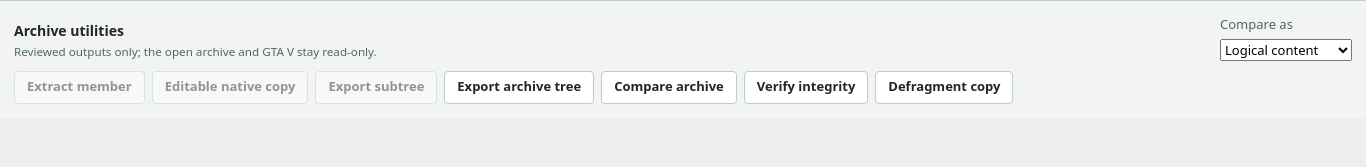
Scenario: guards the destination picker and ignores its result after cancellation
Click the button "Verify integrity". click: point(806, 87)
box: [744,70,868,104]
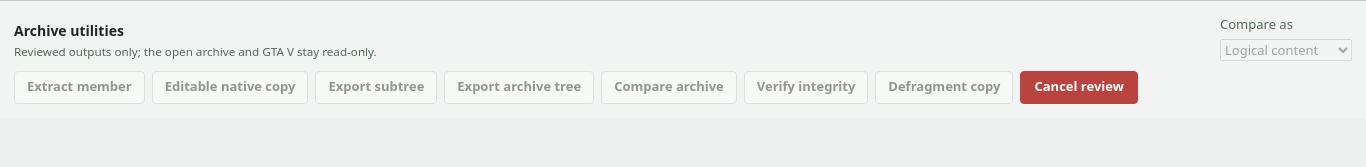
expect the button "Compare archive" is disabled: met, box [601,70,737,104]
Click the button "Cancel review". click: point(1079, 87)
box: [1020,70,1138,104]
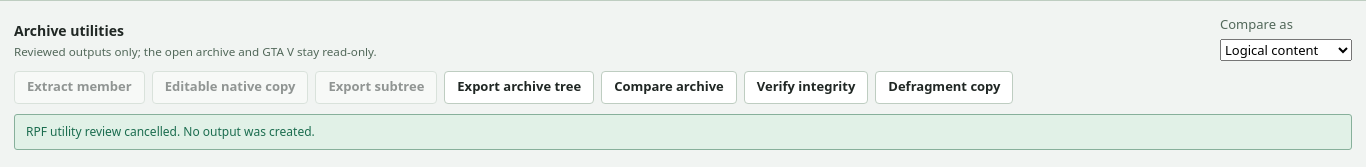
expect the button "Verify integrity" is enabled: met, box [744,70,868,104]
